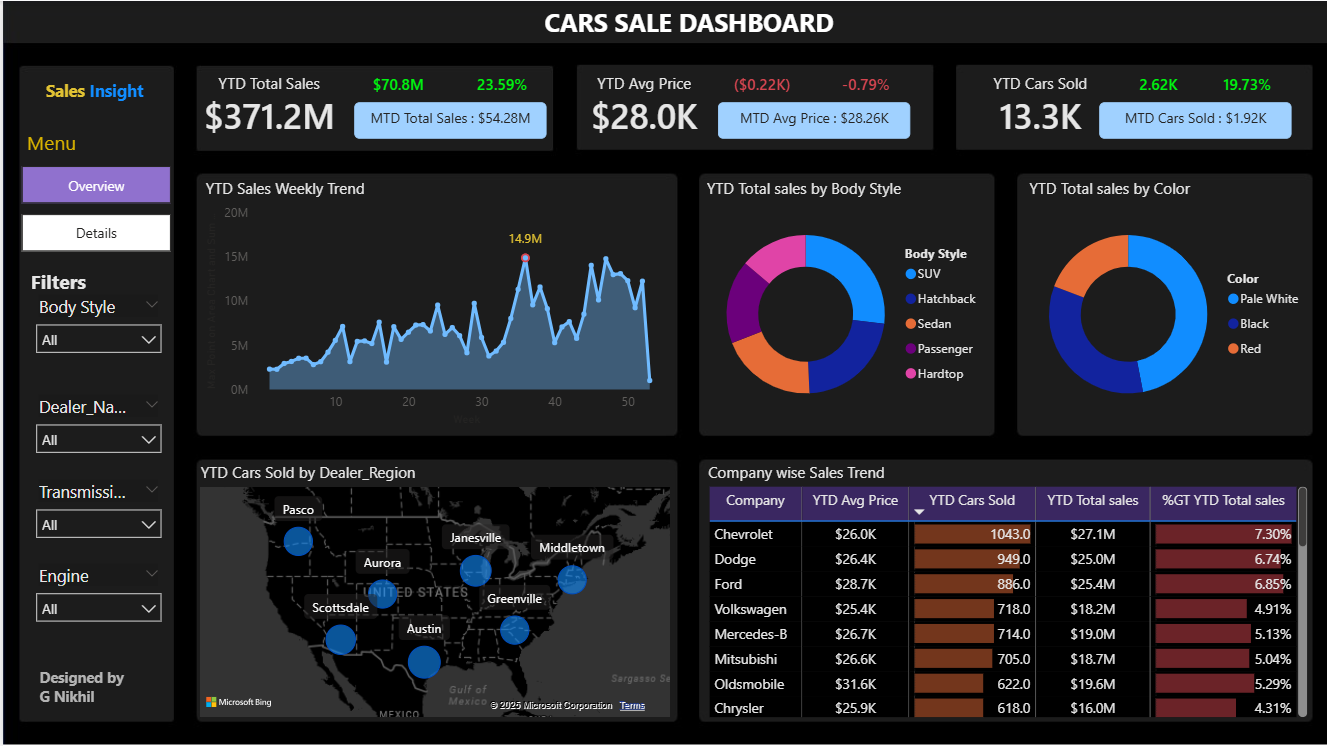

What the dashboard file says about the page in this screenshot:
{"tool":"powerbi","page":{"name":"Overview","canvas":[1280,720],"ordinal":0},"visuals":[{"type":"card","title":"YTD Total Sales","fields":{"Values":["car_data.YTD Total sales"]},"box":[185.8,68.8,142.4,65.1],"z":0},{"type":"card","fields":{"Values":["car_data.Sales Difference"]},"box":[339,68.8,85.7,29],"z":1000},{"type":"card","fields":{"Values":["car_data.YoY Sales Growth"]},"box":[439.1,68.8,85.7,29],"z":2000},{"type":"card","fields":{"Values":["car_data.MTD KPI"]},"box":[339,97.7,185.8,35],"z":3000},{"type":"card","title":"YTD Avg Price","fields":{"Values":["car_data.YTD Avg Price"]},"box":[547.7,68.8,142.4,65.1],"z":4000},{"type":"card","fields":{"Values":["car_data.Avg Price Diff"]},"box":[690.1,68.8,85.7,29],"z":5000},{"type":"card","fields":{"Values":["car_data.YoY Avg Price Growth"]},"box":[790.2,68.8,85.7,29],"z":6000},{"type":"card","fields":{"Values":["car_data.MTD Avg Price KPI"]},"box":[690.1,97.7,185.8,35],"z":7000},{"type":"card","title":"YTD Cars Sold","fields":{"Values":["car_data.YTD Cars Sold"]},"box":[930.2,68.8,142.4,65.1],"z":8000},{"type":"card","fields":{"Values":["car_data.Cars Sold Diff"]},"box":[1072.5,68.8,85.7,29],"z":9000},{"type":"card","fields":{"Values":["car_data.YoY Car Sold Growth"]},"box":[1158.2,68.8,85.7,29],"z":10000},{"type":"card","fields":{"Values":["car_data.MTD Cars Sold KPI"]},"box":[1058,97.7,185.8,35],"z":11000},{"type":"areaChart","title":"YTD Sales Weekly Trend","fields":{"Category":["Calendar Table.Week"],"Y":["car_data.Max Point on Area Chart","Sum(car_data.Price ($))"]},"box":[190,170.5,462.9,244.8],"z":12000},{"type":"donutChart","fields":{"Category":["car_data.Body Style"],"Y":["car_data.YTD Total sales"]},"box":[674.8,170.5,279,244.8],"z":13000},{"type":"donutChart","fields":{"Category":["car_data.Color"],"Y":["car_data.YTD Total sales"]},"box":[985.5,170.5,279,244.8],"z":14000},{"type":"tableEx","title":"Company wise Sales Trend","fields":{"Values":["car_data.Company","car_data.YTD Avg Price","car_data.YTD Cars Sold","car_data.YTD Total sales1","car_data.YTD Total sales"]},"box":[676.1,443.4,588.4,252.2],"z":15000},{"type":"textbox","box":[517.7,0,297.2,60.9],"z":16000},{"type":"slicer","fields":{"Values":["car_data.Body Style"]},"box":[21.9,279,141.3,81.6],"z":17000},{"type":"slicer","fields":{"Values":["car_data.Dealer_Name"]},"box":[21.9,375.2,141.3,81.6],"z":18000},{"type":"slicer","fields":{"Values":["car_data.Transmission"]},"box":[21.9,456.8,141.3,81.6],"z":19000},{"type":"slicer","fields":{"Values":["car_data.Engine"]},"box":[21.9,538.4,141.3,81.6],"z":20000},{"type":"textbox","box":[21.9,253.4,88.9,40.2],"z":21000},{"type":"textbox","box":[36.5,69.4,126.7,46.3],"z":22000},{"type":"pageNavigator","box":[18.3,159.6,145,82.8],"z":23000},{"type":"textbox","box":[18.3,119.4,67,40.2],"z":24000},{"type":"textbox","box":[30.5,638.3,138.9,81.6],"z":25000},{"type":"map","fields":{"Category":["car_data.Dealer_Region"],"Size":["car_data.YTD Cars Sold"]},"box":[185.8,444,463.3,252.1],"z":26000}]}

Visuals, with their boxes in screenshot pixels (x1, y1, x2, y2), scaled from the page's 1280x720 canvas onto the 1327x746 screenshot:
"YTD Total Sales" card: 193, 71, 340, 139
card - car_data.Sales Difference: 351, 71, 440, 101
card - car_data.YoY Sales Growth: 455, 71, 544, 101
card - car_data.MTD KPI: 351, 101, 544, 137
"YTD Avg Price" card: 568, 71, 715, 139
card - car_data.Avg Price Diff: 715, 71, 804, 101
card - car_data.YoY Avg Price Growth: 819, 71, 908, 101
card - car_data.MTD Avg Price KPI: 715, 101, 908, 137
"YTD Cars Sold" card: 964, 71, 1112, 139
card - car_data.Cars Sold Diff: 1112, 71, 1201, 101
card - car_data.YoY Car Sold Growth: 1201, 71, 1290, 101
card - car_data.MTD Cars Sold KPI: 1097, 101, 1289, 137
"YTD Sales Weekly Trend" areaChart: 197, 177, 677, 430
donutChart - car_data.Body Style x car_data.YTD Total sales: 700, 177, 989, 430
donutChart - car_data.Color x car_data.YTD Total sales: 1022, 177, 1311, 430
"Company wise Sales Trend" tableEx: 701, 459, 1311, 721
textbox: 537, 0, 845, 63
slicer - car_data.Body Style: 23, 289, 169, 374
slicer - car_data.Dealer_Name: 23, 389, 169, 473
slicer - car_data.Transmission: 23, 473, 169, 558
slicer - car_data.Engine: 23, 558, 169, 642
textbox: 23, 263, 115, 304
textbox: 38, 72, 169, 120
pageNavigator: 19, 165, 169, 251
textbox: 19, 124, 88, 165
textbox: 32, 661, 176, 745
map - car_data.Dealer_Region x car_data.YTD Cars Sold: 193, 460, 673, 721
